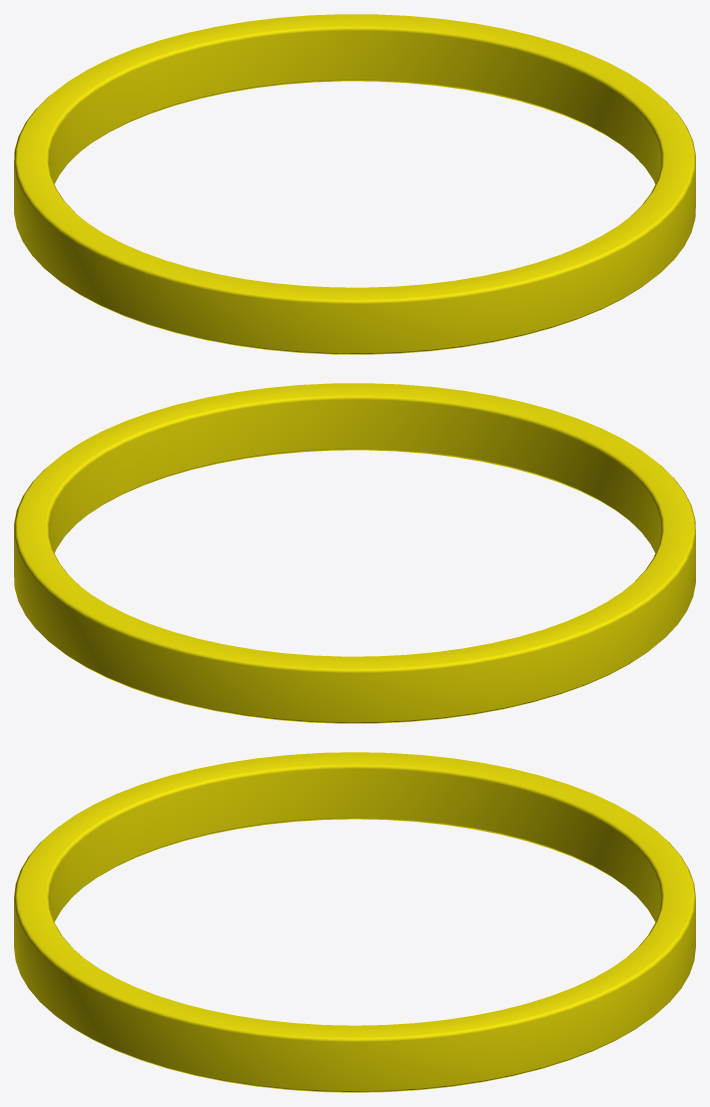
3 views of the same model, one above another, from view 1: azimuth 30°, elevation 25°; view 2: azimuth 150°, elevation 25°; view 3: azimuth 270°, elevation 25° (orthographic).
Parts seen in each view (by area): view 1: seal_body; view 2: seal_body; view 3: seal_body.
Part boxes in pixels (<box>): seal_body: <box>14,14,695,354</box>; seal_body: <box>14,383,695,723</box>; seal_body: <box>14,752,695,1092</box>.
Size of the model in its own units: 0.078 by 0.007 by 0.078.
